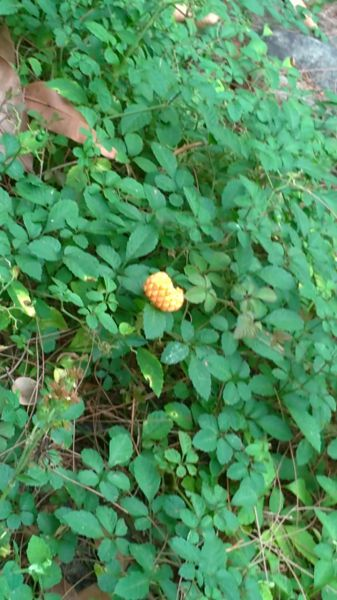eggs: (140, 267, 191, 319)
